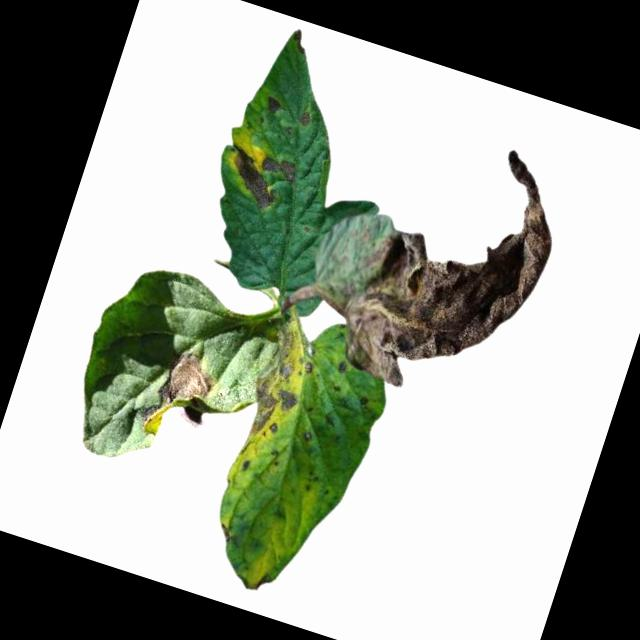Early_blight: (314, 112, 577, 414), (131, 340, 220, 449), (240, 320, 318, 444), (216, 139, 293, 213), (258, 149, 303, 185), (237, 563, 274, 596), (261, 91, 287, 119), (351, 388, 375, 410), (298, 107, 316, 127)
